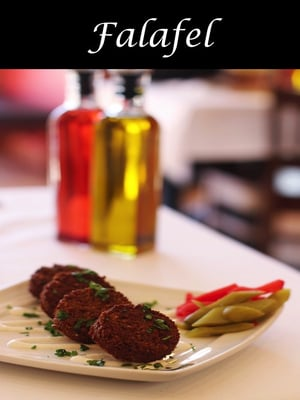curry: (0, 117, 299, 397), (0, 203, 299, 398)
